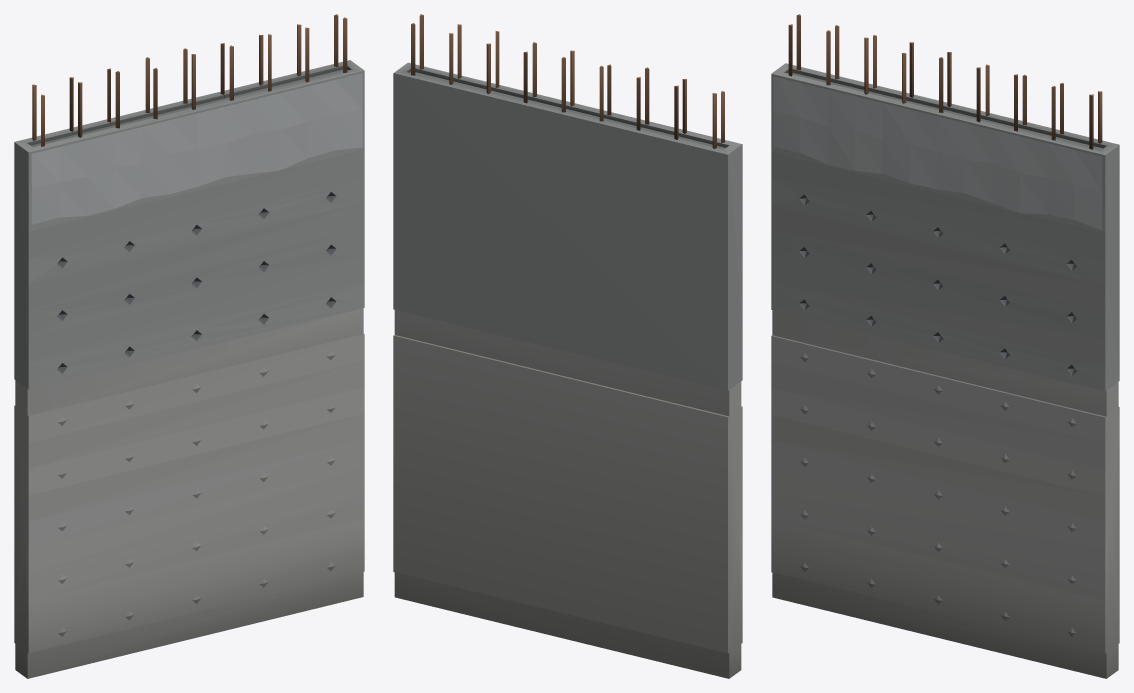
The model's file is core.glb.
3 renders of one model, left to right at view 1: azimuth 30°, elevation 25°; view 2: azimuth 150°, elevation 25°; view 3: azimuth 330°, elevation 25°, orthographic.
Visible parts, largest first — view 1: core; view 2: core; view 3: core.
Part boxes in pixels (<box>): core: <box>14,14,364,678</box>; core: <box>393,14,742,678</box>; core: <box>771,14,1119,678</box>.
Bounding box in the file's own units: 4 × 6.64 × 0.316.
